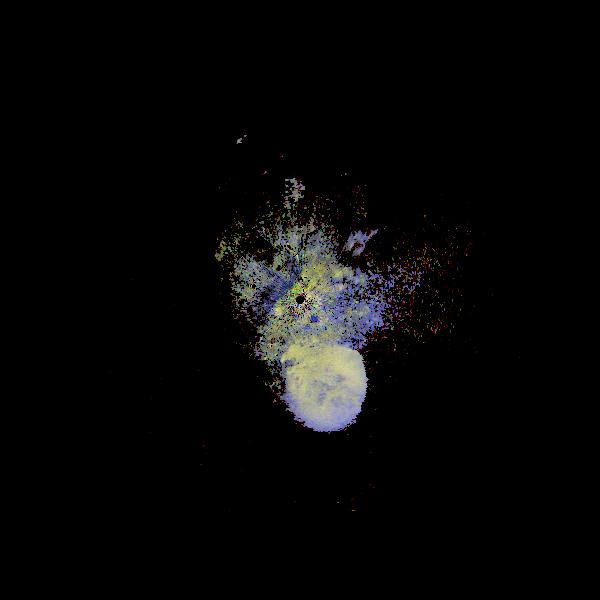roost: (242, 310, 395, 463)
